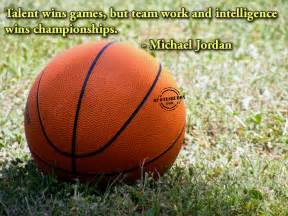basketball: (23, 40, 187, 195)
